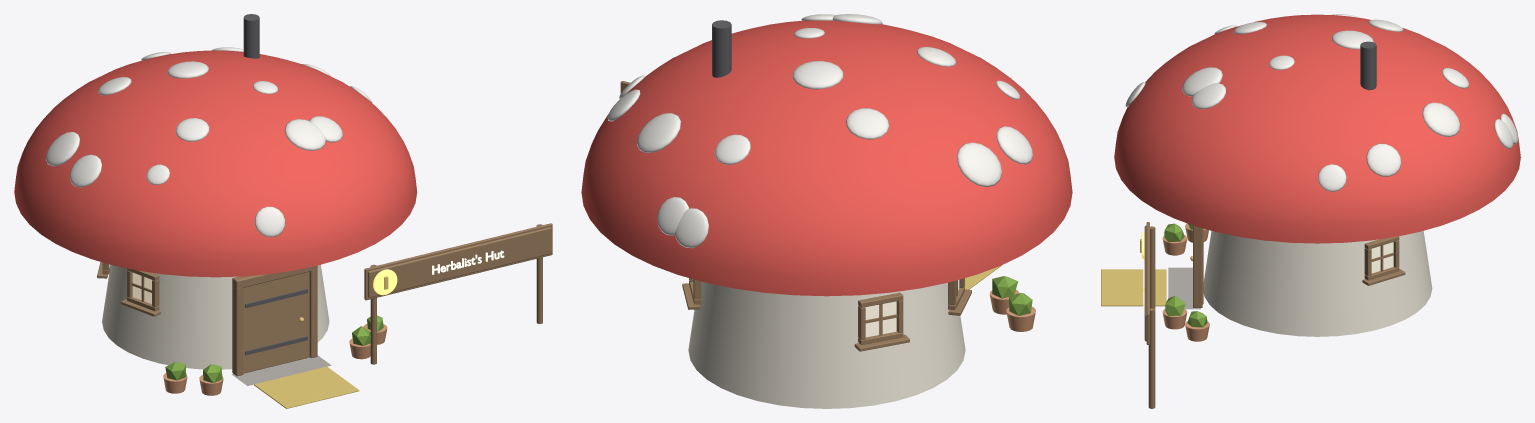
Rendered from herbalist_hut.fbx.
The picture shows the model from 3 angles, left to right: view 1: azimuth 30°, elevation 25°; view 2: azimuth 150°, elevation 25°; view 3: azimuth 270°, elevation 25°; orthographic projection. The views are drawn at different scales.
Parts seen in each view (by area): view 1: herbalist_hut; view 2: herbalist_hut; view 3: herbalist_hut.
Part boxes in pixels (x1=…): herbalist_hut: x1=14, y1=14, x2=552, y2=408; herbalist_hut: x1=581, y1=14, x2=1072, y2=408; herbalist_hut: x1=1101, y1=14, x2=1520, y2=408.
Size of the model in its own units: 15.18 by 9.2 by 12.8.
